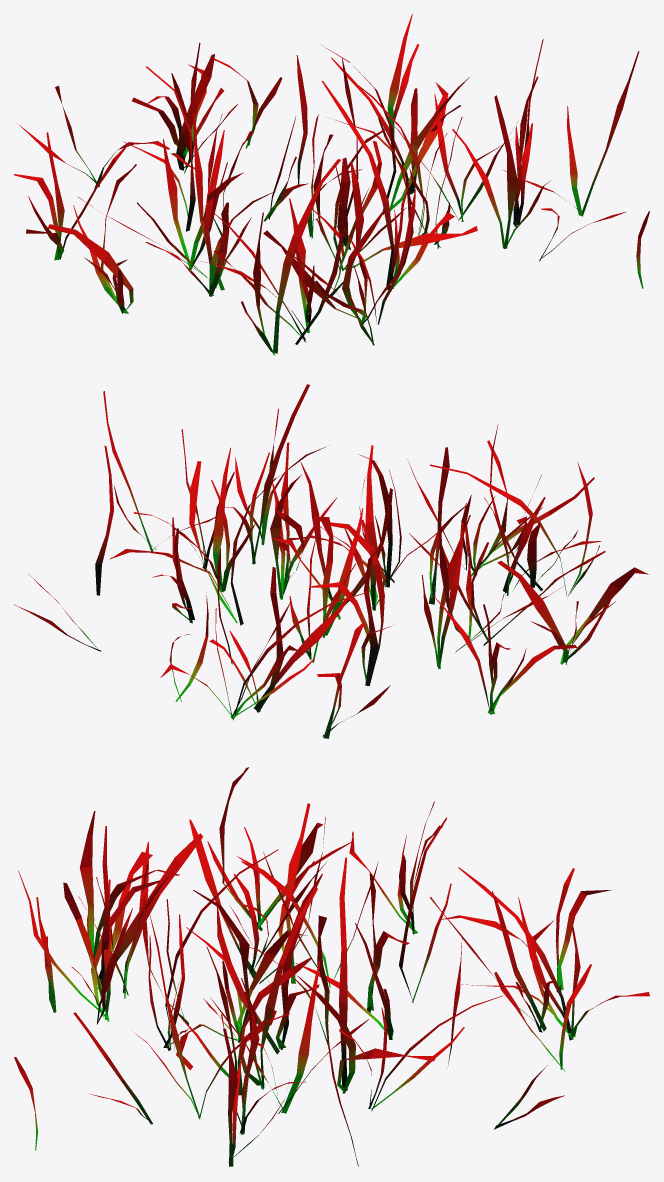
File: GrassBlades2_Var2.FBX
3 renders of one model, top to bottom at view 1: azimuth 30°, elevation 25°; view 2: azimuth 150°, elevation 25°; view 3: azimuth 270°, elevation 25°, orthographic. The views are drawn at different scales.
Parts seen in each view (by area): view 1: GrassBlades2_Var2_LOD0; view 2: GrassBlades2_Var2_LOD0; view 3: GrassBlades2_Var2_LOD0.
Boxes of the visible parts, bbox=[...] form: GrassBlades2_Var2_LOD0: bbox=[14, 14, 649, 355]; GrassBlades2_Var2_LOD0: bbox=[14, 384, 648, 738]; GrassBlades2_Var2_LOD0: bbox=[14, 767, 649, 1166].
Size of what is drawn, in the model's own units: 74.98 by 23.04 by 65.6.
